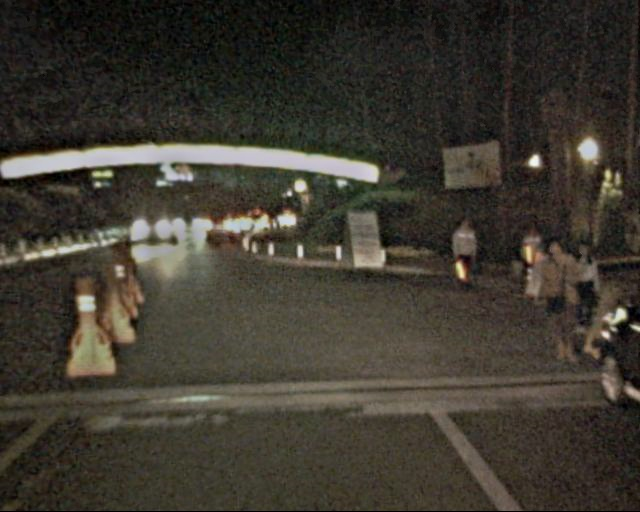person: (533, 238, 582, 358), (567, 234, 611, 354), (447, 213, 488, 302), (518, 223, 549, 291)
